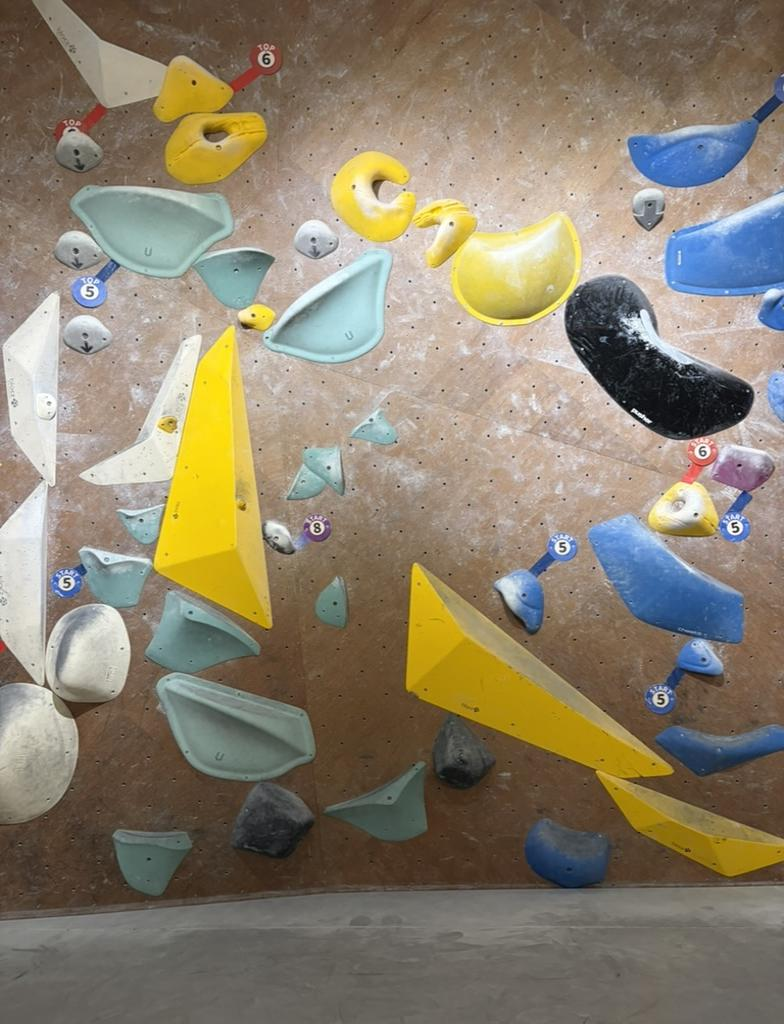crimp: (80, 547, 151, 607), (116, 505, 163, 544), (351, 408, 397, 444), (287, 463, 323, 499), (36, 392, 56, 419)
downhold: (54, 230, 106, 270), (55, 129, 102, 170), (64, 316, 111, 353), (295, 220, 338, 259), (634, 188, 663, 230)
jug: (565, 275, 753, 439), (331, 151, 415, 241), (153, 56, 233, 122), (414, 199, 476, 267), (238, 303, 275, 331), (262, 520, 293, 553)
ledge: (70, 186, 233, 276), (264, 249, 392, 362), (33, 0, 163, 107), (452, 213, 578, 323), (666, 190, 783, 295), (629, 117, 757, 186), (192, 247, 274, 308)
pocket: (165, 113, 265, 184)
sidepull: (81, 335, 200, 484), (3, 293, 58, 485), (0, 481, 49, 685), (304, 447, 344, 494), (315, 576, 346, 626)
sloper: (0, 683, 78, 823), (46, 604, 130, 702)
tape: (229, 44, 281, 92), (71, 260, 118, 307), (54, 103, 106, 140), (530, 535, 576, 576), (645, 667, 683, 714), (286, 513, 331, 552), (681, 436, 717, 482), (720, 492, 750, 539), (50, 564, 86, 597)
volume: (406, 564, 672, 778), (154, 327, 271, 628), (597, 771, 783, 876)
